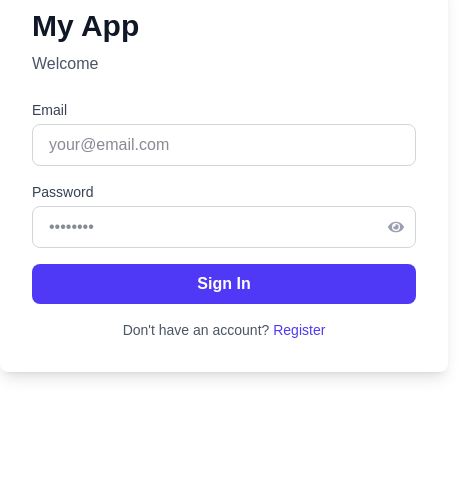
Test: LoginForm › switches to register mode when Register link is clicked
Click the button "Register": x=299, y=330 [273,320,325,340]
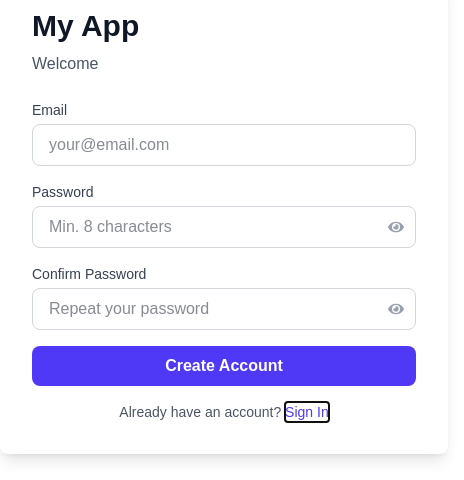
Result: the button "Create Account" is shown at [32,346,416,386]
